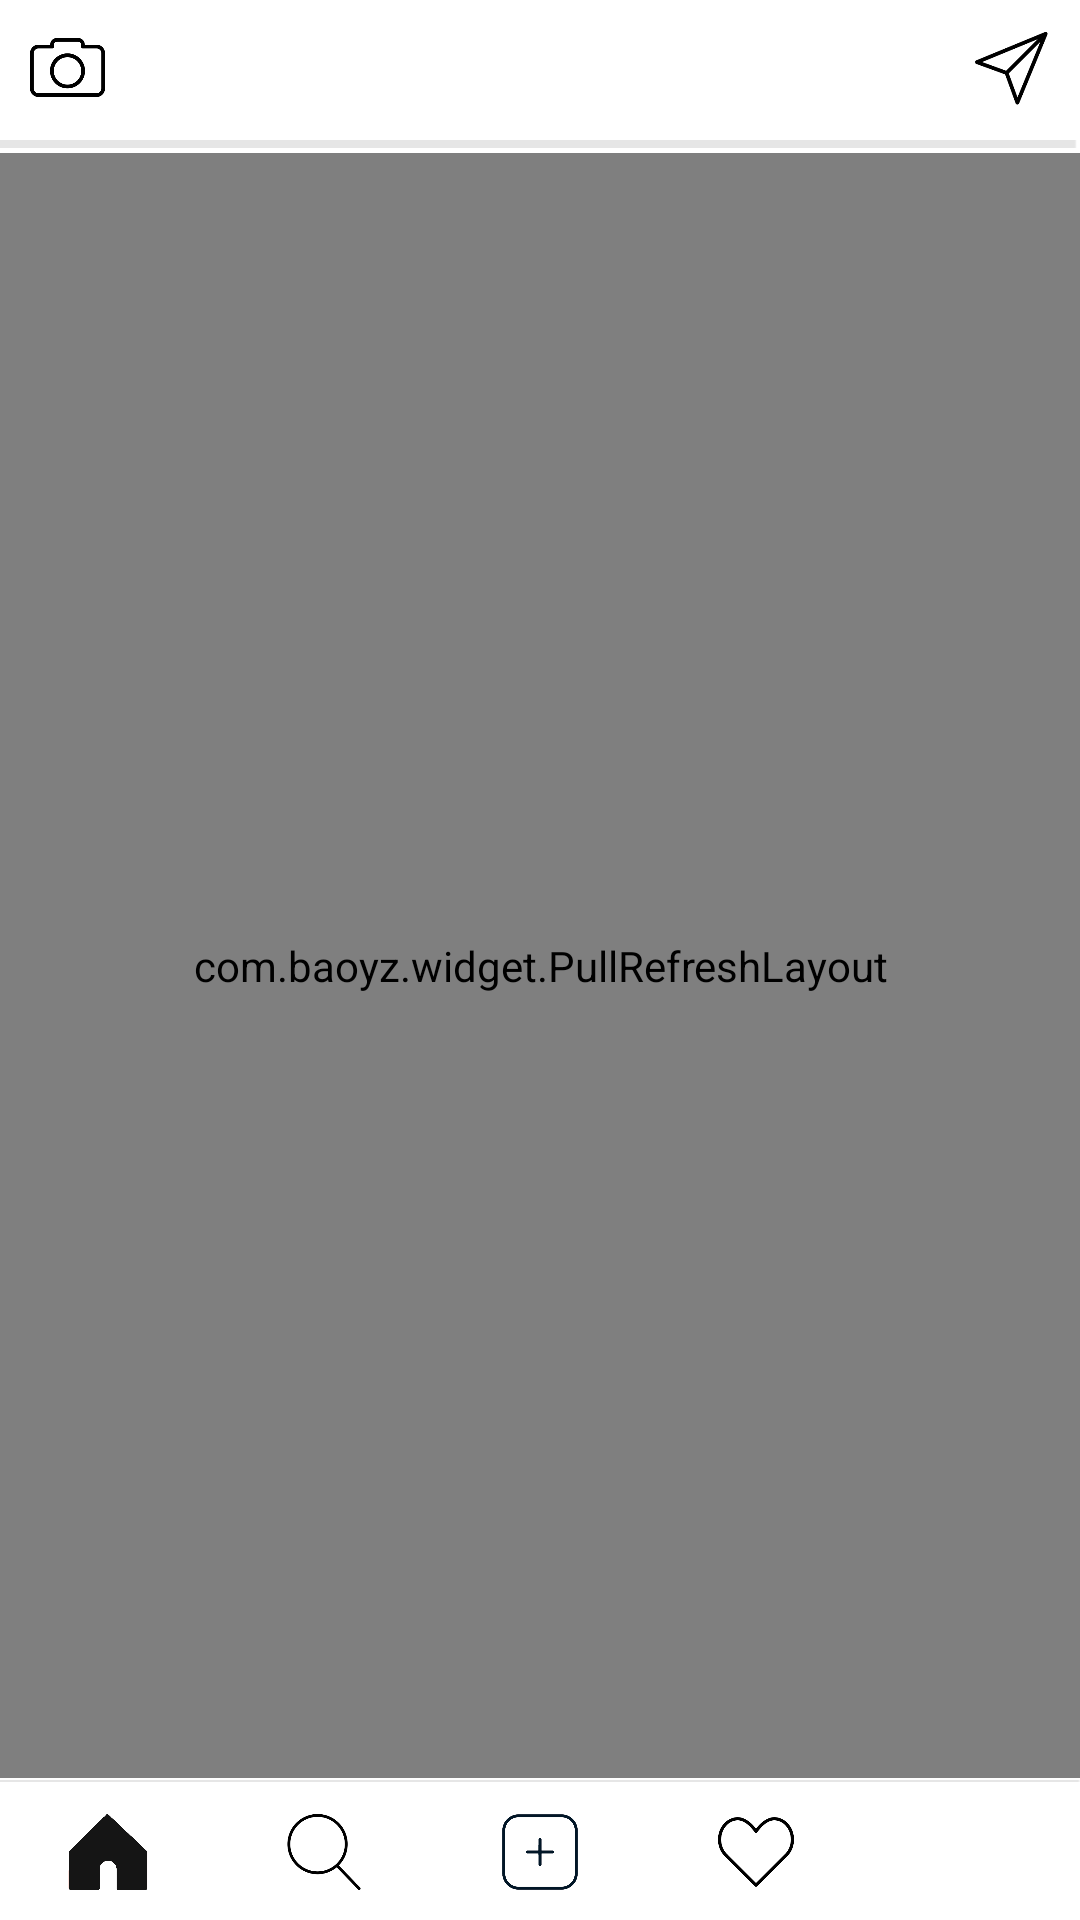

Screen size 1080w x 1920h. Icon name, then its center in pixels as [x,y]:
camera: [67,67]
direction: [1011,68]
heart: [756,1852]
home: [107,1852]
post: [540,1852]
search: [324,1852]
